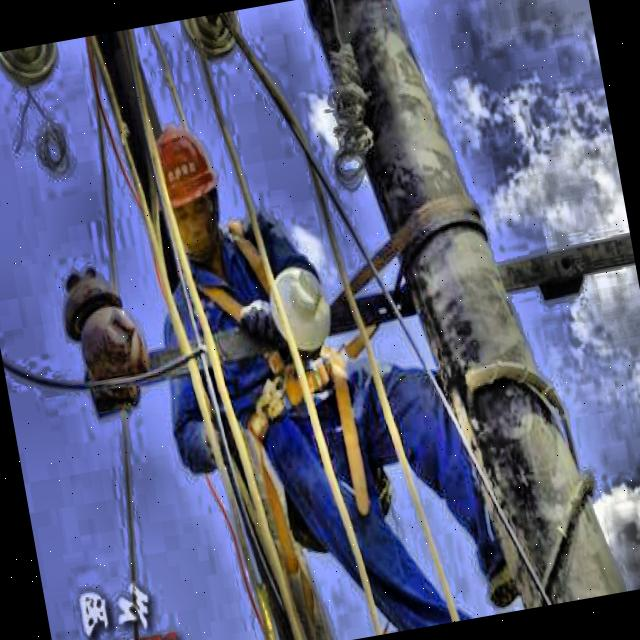helmet: (139, 108, 233, 272)
